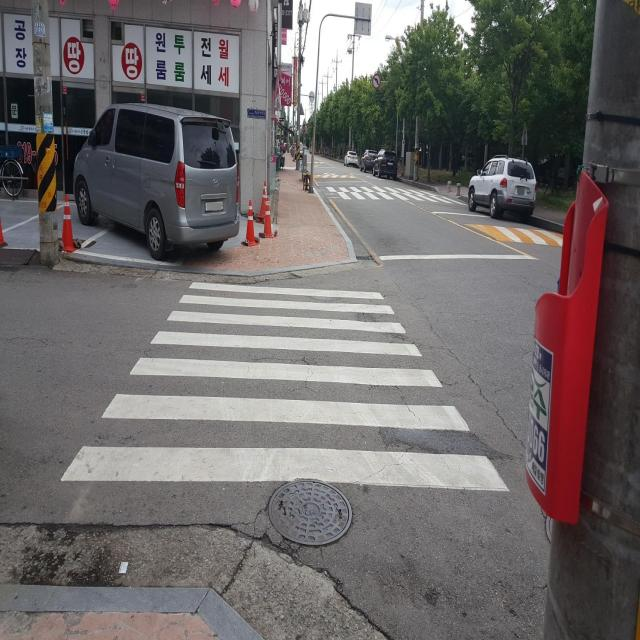횡단보도: (61, 280, 510, 493), (324, 184, 468, 212)
